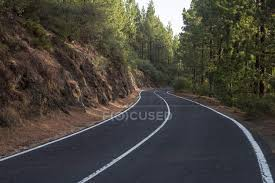strada: (1, 88, 275, 181)
